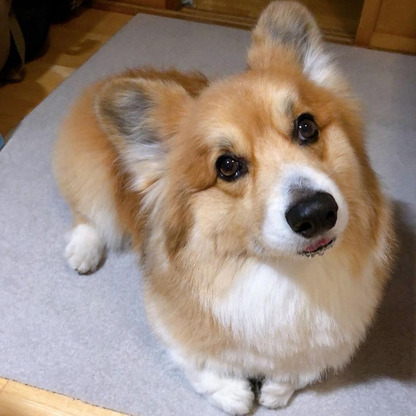Corgi: (59, 23, 396, 399)
